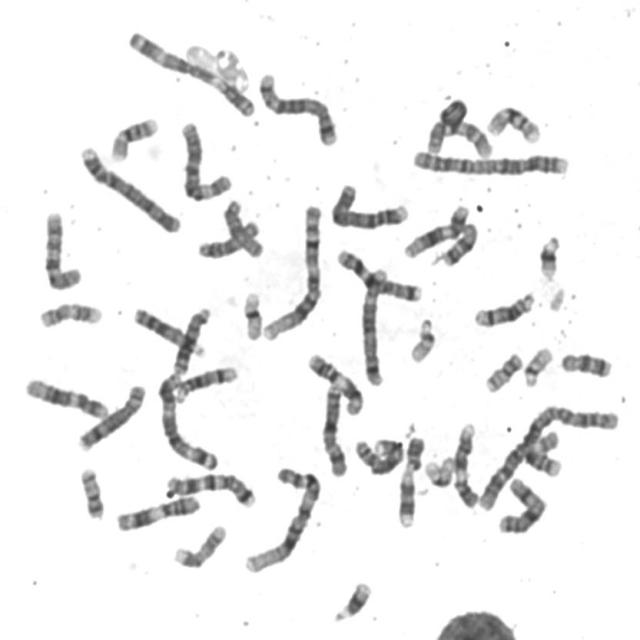A1: (258, 198, 326, 342), (239, 460, 323, 574)
A2: (515, 398, 621, 479), (406, 143, 573, 180)
A3: (121, 23, 259, 119), (152, 367, 221, 472)
B4: (74, 140, 183, 235), (325, 177, 412, 232)
B5: (252, 66, 340, 148), (356, 260, 391, 388)
C10: (38, 205, 84, 292), (421, 111, 496, 160)
C11: (303, 347, 365, 417), (110, 489, 202, 534)
C12: (398, 198, 472, 260), (19, 371, 110, 421)
C6: (473, 424, 562, 512), (176, 115, 234, 201)
C7: (332, 243, 424, 303), (160, 468, 256, 510)
C8: (72, 378, 147, 452), (349, 432, 405, 476)
C9: (393, 430, 428, 529), (448, 416, 481, 509)
D13: (128, 302, 208, 359), (168, 302, 214, 377)
D14: (170, 360, 240, 405), (468, 285, 538, 329)
D15: (218, 193, 267, 260), (193, 214, 263, 260)
E16: (105, 110, 161, 163), (482, 99, 543, 145)
E17: (168, 519, 228, 570), (34, 296, 104, 330)
E18: (437, 216, 480, 268), (554, 345, 614, 380)
F19: (237, 286, 265, 342), (419, 451, 456, 488)
F20: (480, 346, 526, 394), (74, 461, 107, 521)
G21: (326, 575, 374, 625), (533, 229, 563, 282)
G22: (403, 312, 438, 364), (518, 340, 555, 389)
X: (493, 472, 549, 536), (316, 381, 349, 478)
